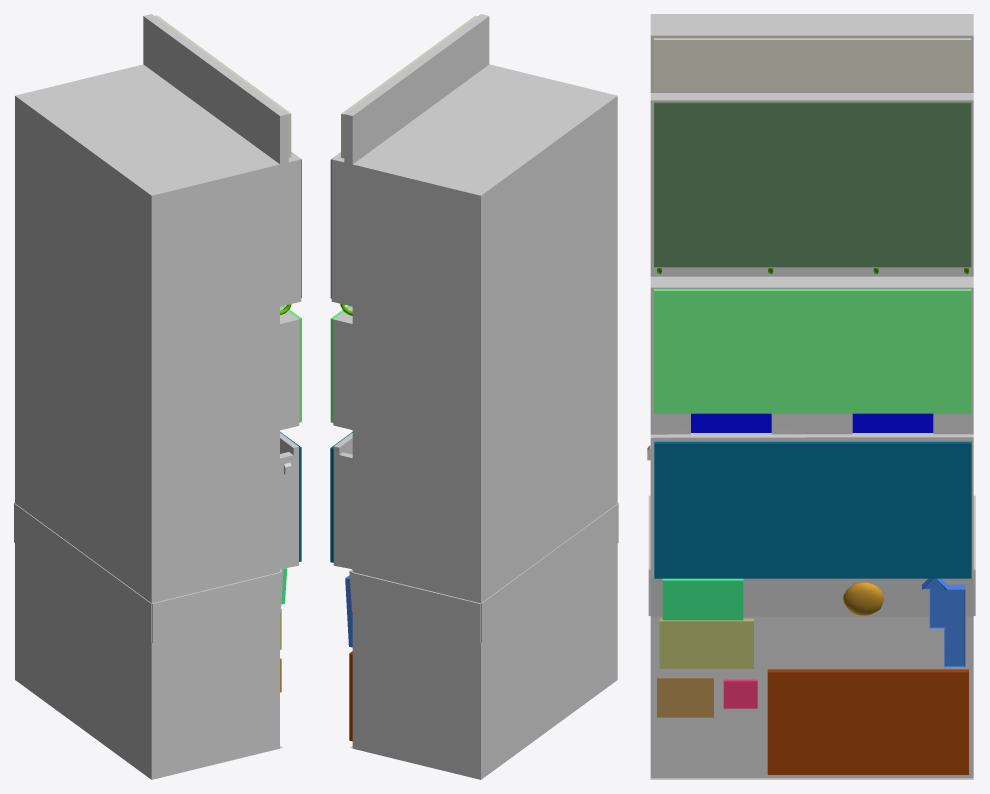
File: 白亜ビル.FBX
3 renders of one model, left to right at view 1: azimuth 30°, elevation 25°; view 2: azimuth 150°, elevation 25°; view 3: azimuth 270°, elevation 25°, orthographic. The views are drawn at different scales.
Visible parts, largest first — view 1: takobill, BIGkanb004; view 2: takobill, BIGkanb004; view 3: takobill, BIGkanb003, BIGkanb001, BIGkanb002, Kanban_004, BIGkanb004, Kanban_1, Kanban_2, Kanban_3, Kanban_006, takoyaki, Kanban_007.
Boxes of the visible parts, bbox=[...] form: takobill: bbox=[14, 14, 301, 779]; BIGkanb004: bbox=[155, 15, 291, 157]; takobill: bbox=[331, 14, 618, 779]; BIGkanb004: bbox=[341, 15, 477, 158]; takobill: bbox=[647, 14, 975, 779]; BIGkanb003: bbox=[654, 102, 971, 267]; BIGkanb001: bbox=[654, 441, 971, 578]; BIGkanb002: bbox=[654, 289, 971, 413]; Kanban_004: bbox=[767, 669, 968, 774]; BIGkanb004: bbox=[654, 38, 971, 91]; Kanban_1: bbox=[659, 618, 753, 668]; Kanban_2: bbox=[662, 578, 743, 620]; Kanban_3: bbox=[922, 578, 965, 667]; Kanban_006: bbox=[657, 677, 713, 717]; takoyaki: bbox=[843, 582, 883, 615]; Kanban_007: bbox=[723, 679, 757, 708].
Bounding box in the file's own units: 59.31 × 235 × 93.72.
